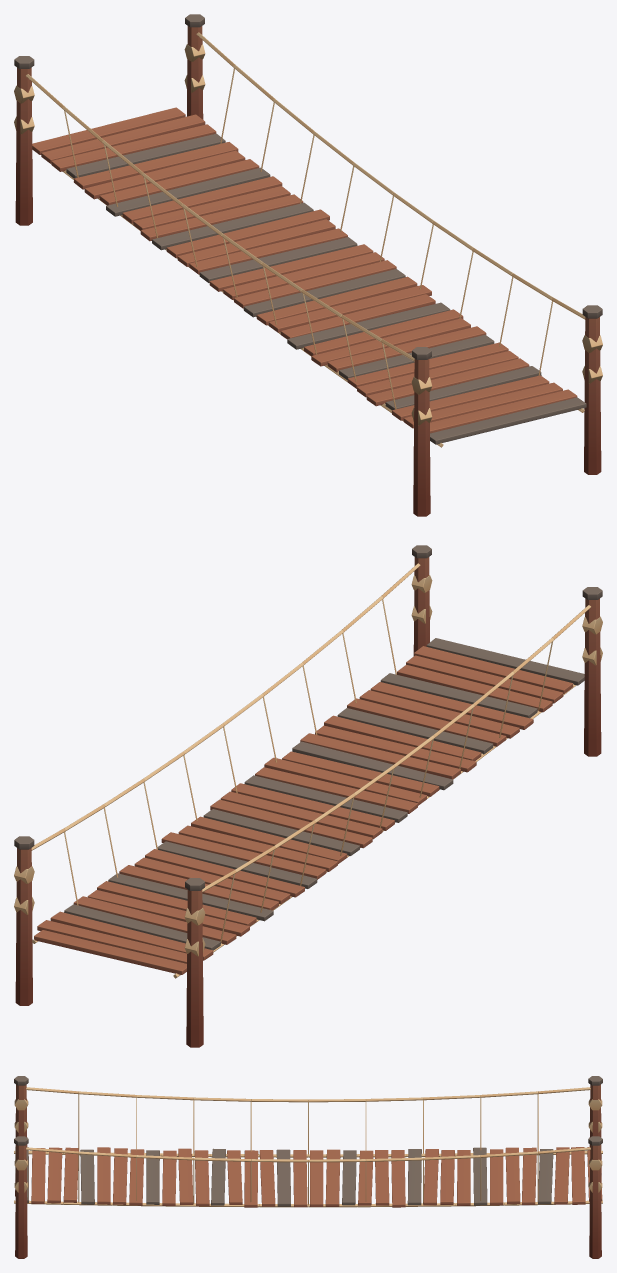
The model's file is rope_bridge.glb.
3 views of the same model, one above another, from view 1: azimuth 30°, elevation 25°; view 2: azimuth 150°, elevation 25°; view 3: azimuth 270°, elevation 25° (orthographic). The views are drawn at different scales.
Parts seen in each view (by area): view 1: rope_bridge; view 2: rope_bridge; view 3: rope_bridge.
Part boxes in pixels (bbox=[...]): rope_bridge: bbox=[14, 14, 602, 516]; rope_bridge: bbox=[14, 545, 602, 1047]; rope_bridge: bbox=[14, 1076, 602, 1258].
Bounding box in the file's own units: 3.16 × 2.65 × 12.
1 material, 1 textured.
